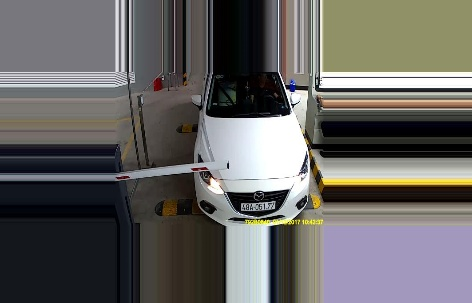plate: (239, 201, 275, 210)
